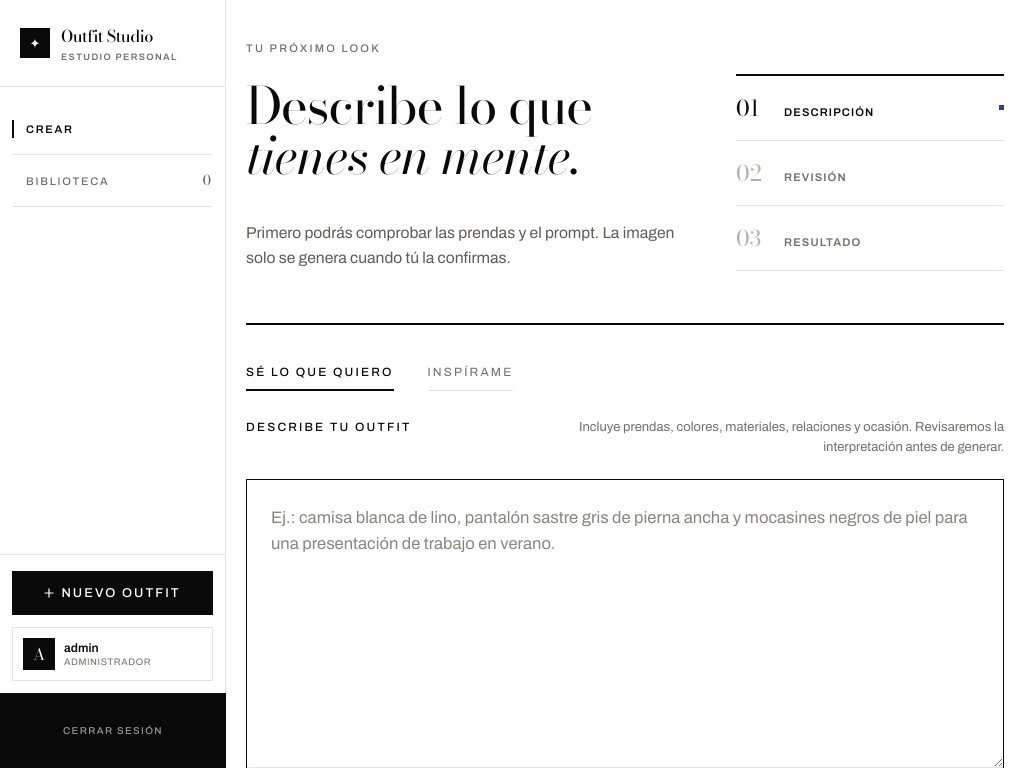
Test case: sesión de usuario › cierra la sesión y limpia el outfit activo
Check: the text box labelled "Describe tu outfit" is shown, box [247,480,1003,767]
Click the button "Cerrar sesión" at (113, 730), box [0,693,226,767]
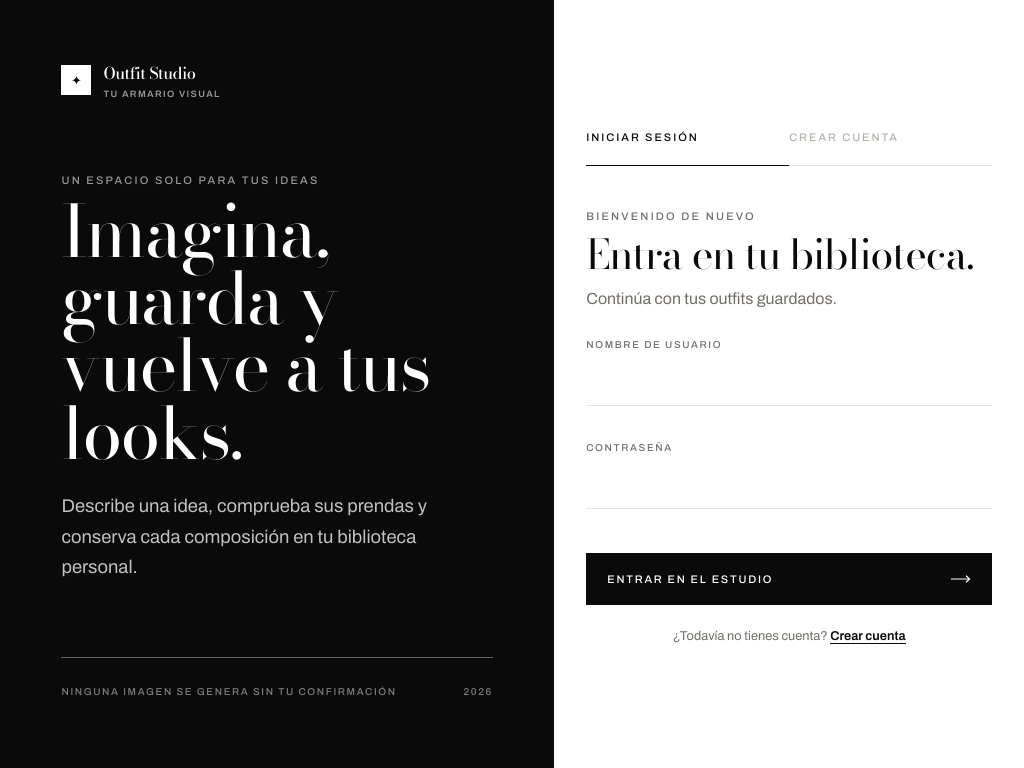
Check: the heading "Entra en tu biblioteca." is shown, box [586,234,992,275]
